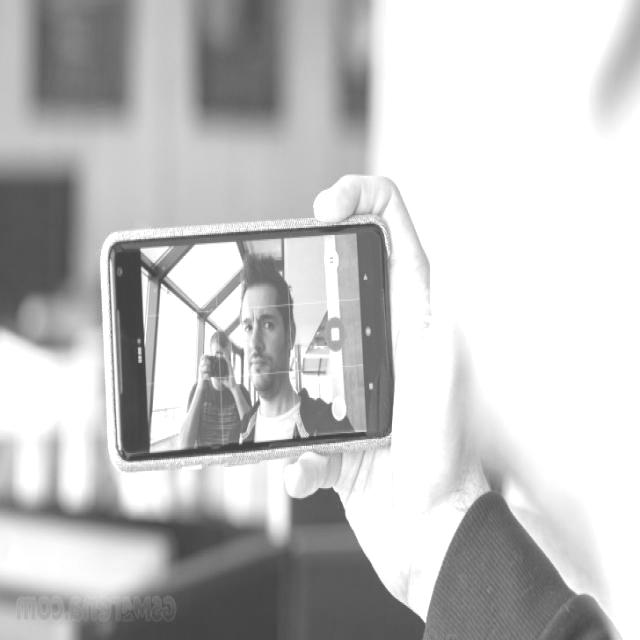fake: (96, 206, 402, 478)
